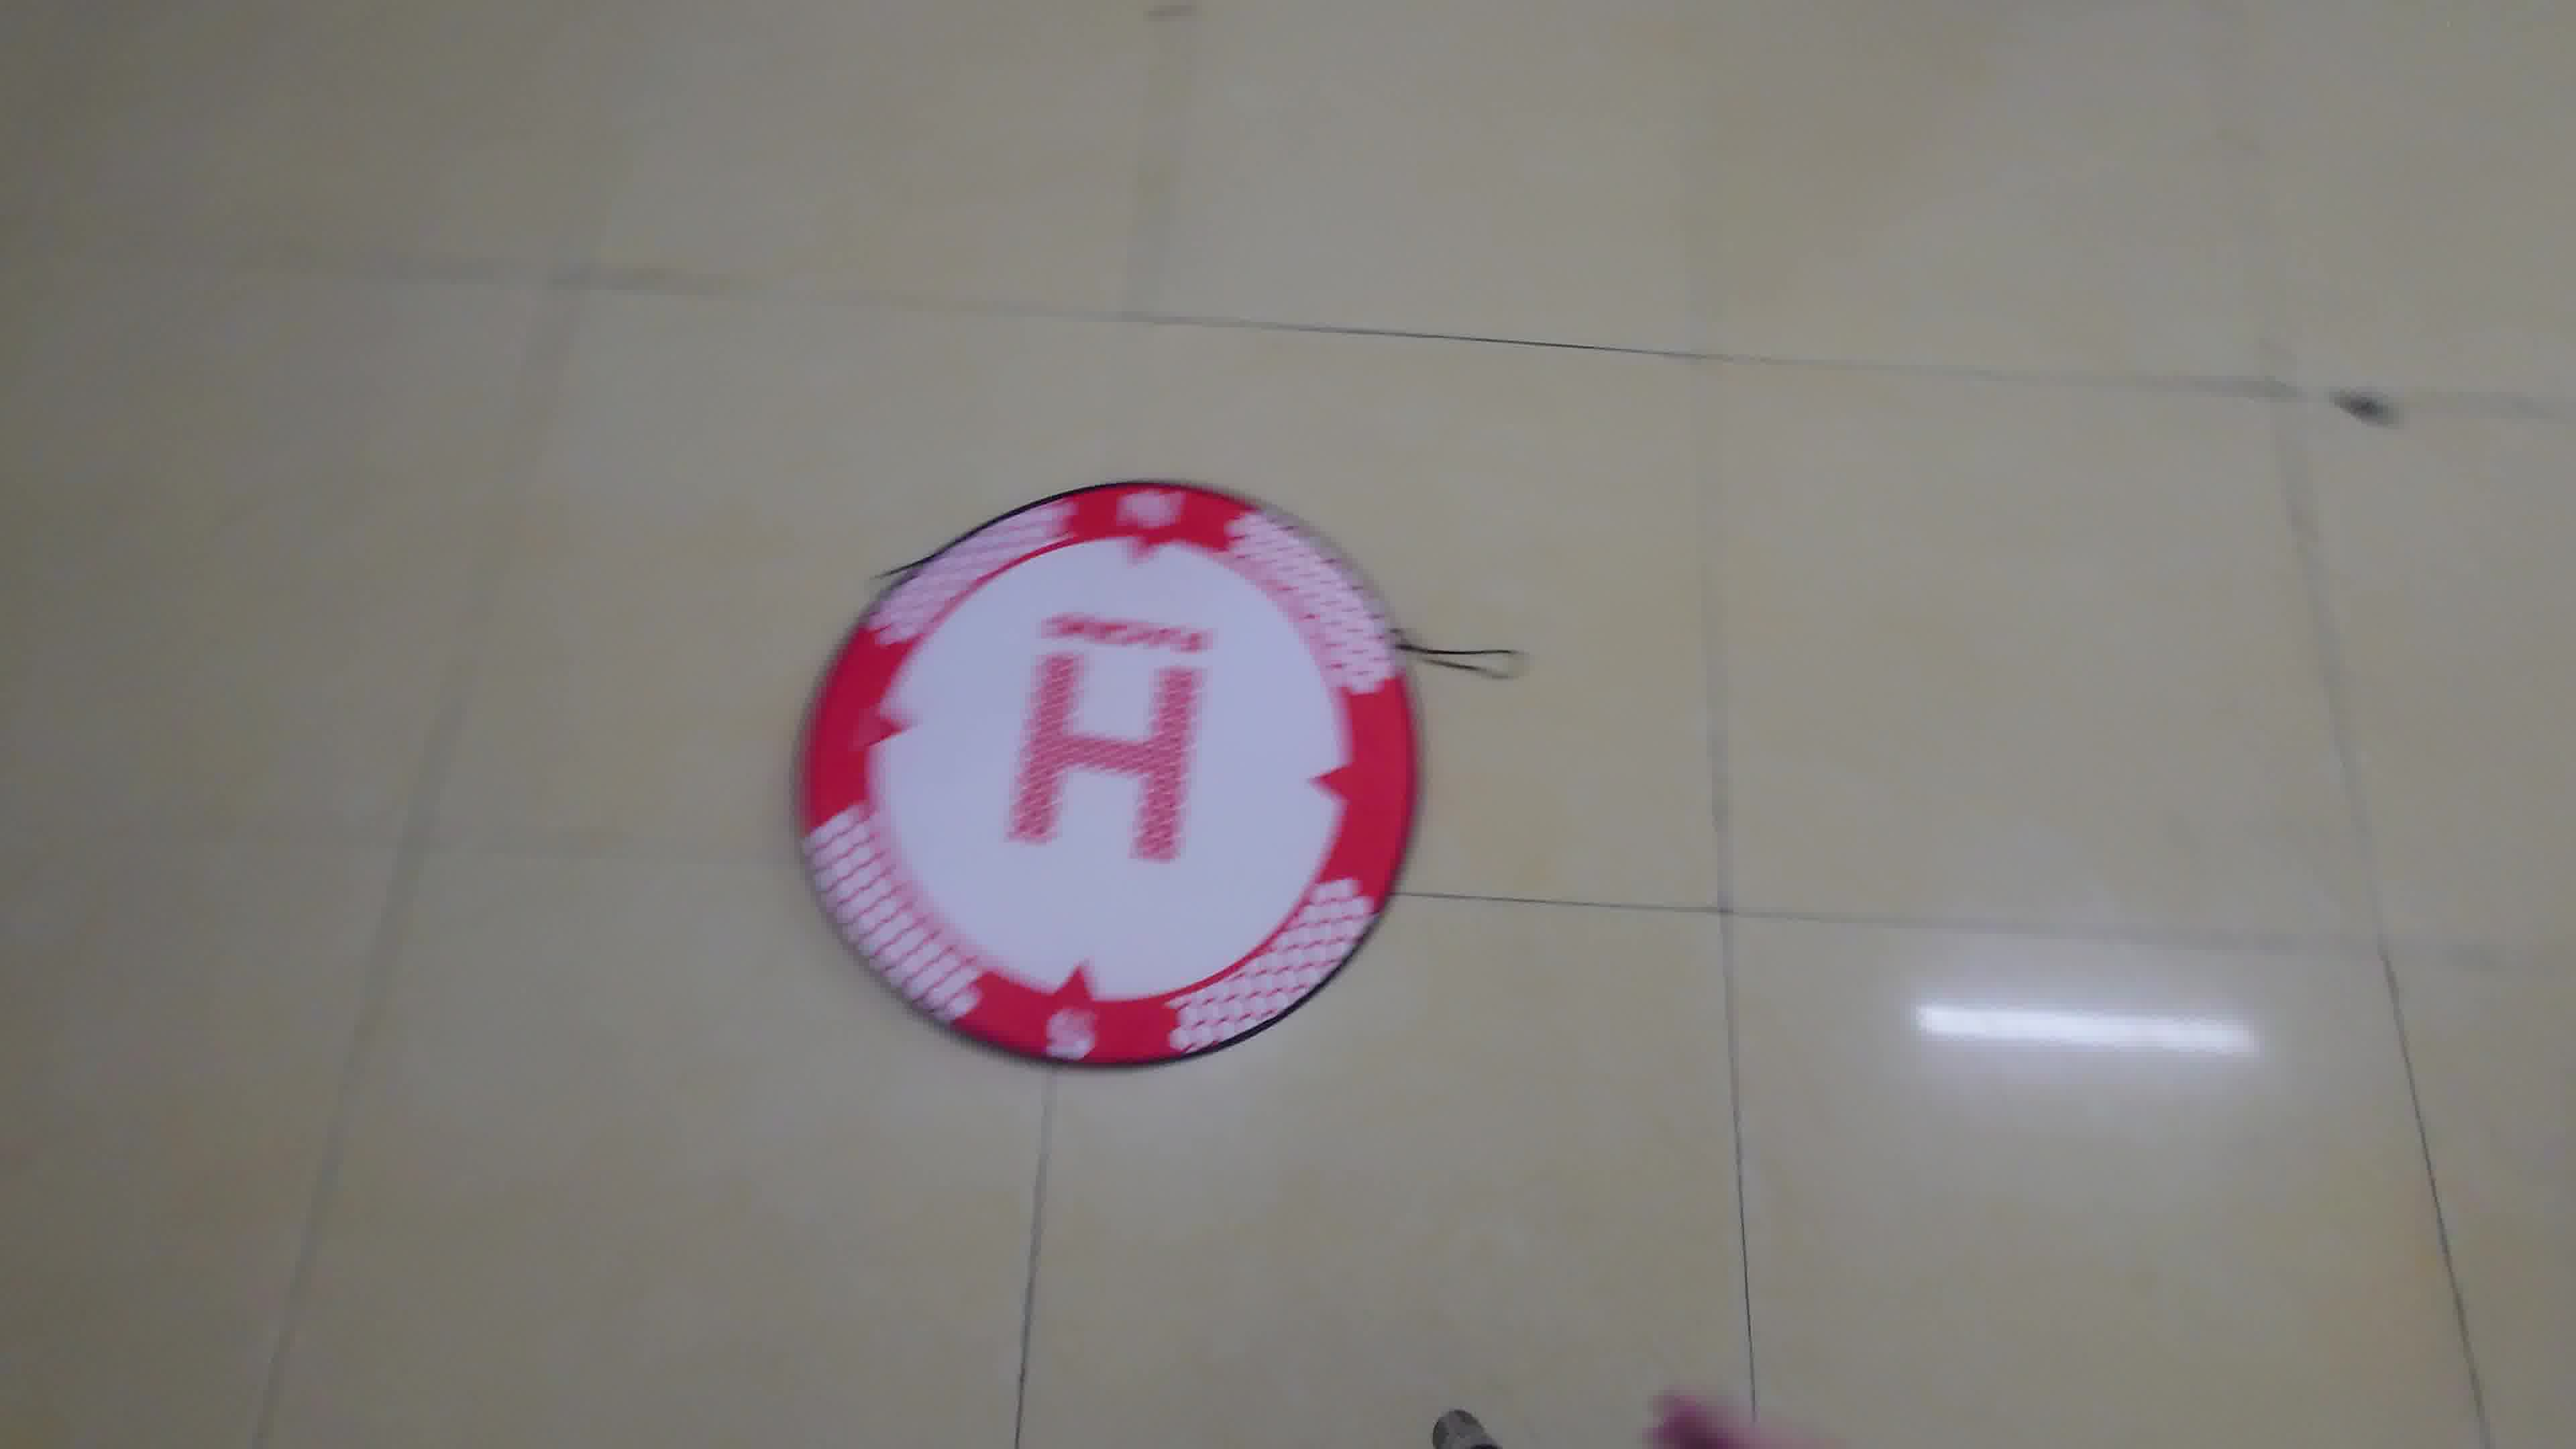H: (1008, 653, 1201, 865)
